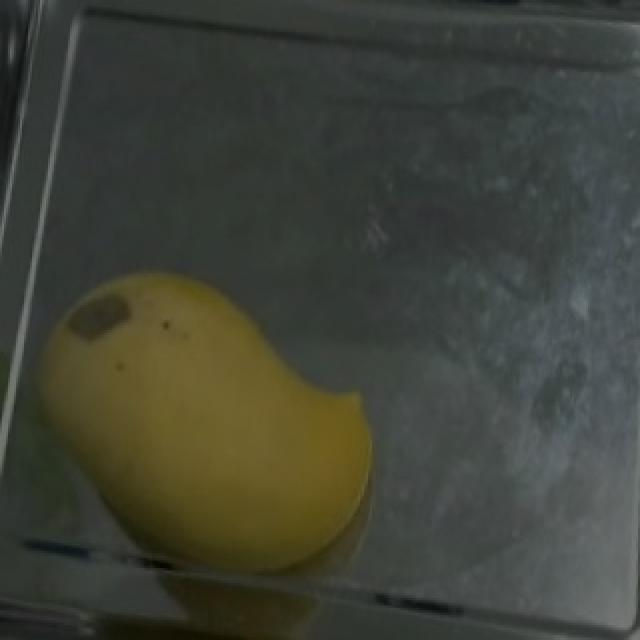fruit: (36, 241, 412, 615)
